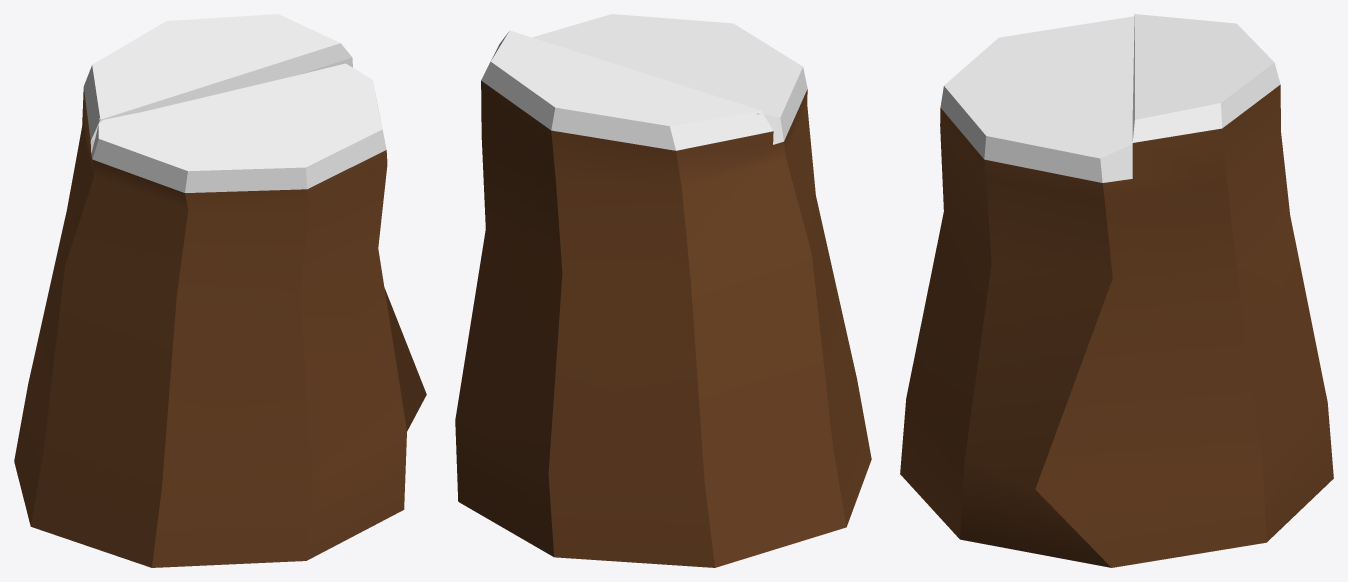
File: DEAD TREE 4.fbx
The picture shows the model from 3 angles, left to right: view 1: azimuth 30°, elevation 25°; view 2: azimuth 150°, elevation 25°; view 3: azimuth 270°, elevation 25°; orthographic projection. The views are drawn at different scales.
Visible parts, largest first — view 1: DEAD TREE 4; view 2: DEAD TREE 4; view 3: DEAD TREE 4.
Boxes of the visible parts, x1=… form: DEAD TREE 4: x1=14, y1=14, x2=426, y2=567; DEAD TREE 4: x1=455, y1=14, x2=871, y2=567; DEAD TREE 4: x1=900, y1=14, x2=1333, y2=567.
Bounding box in the file's own units: 91.24 × 99.9 × 90.36.
